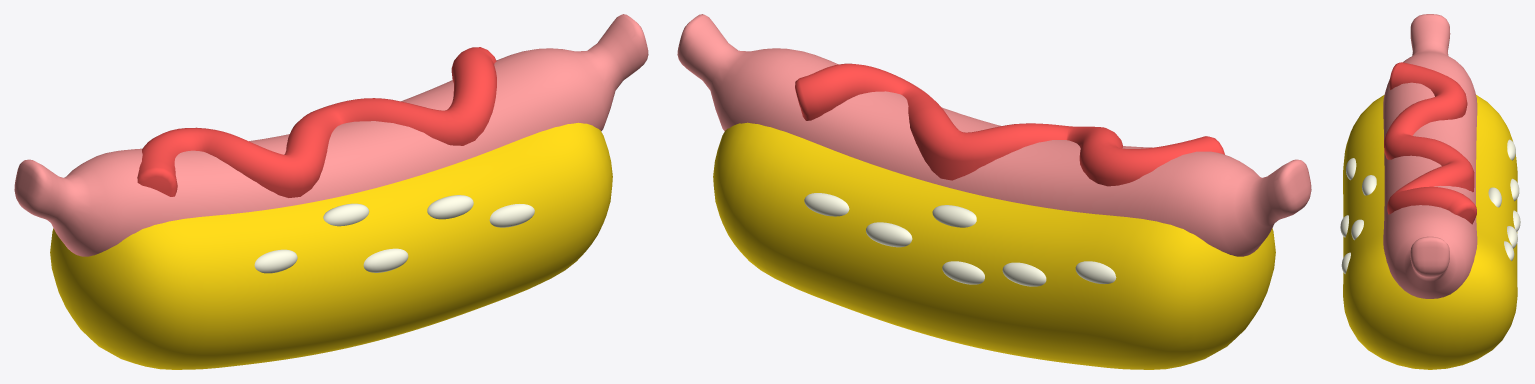
The model's file is Store_12_Big_Hot_Dog_1.glb.
3 views of the same model, side by side, from view 1: azimuth 30°, elevation 25°; view 2: azimuth 150°, elevation 25°; view 3: azimuth 270°, elevation 25° (orthographic). The views are drawn at different scales.
Visible parts, largest first — view 1: Store_12_Big_Hot_Dog_1; view 2: Store_12_Big_Hot_Dog_1; view 3: Store_12_Big_Hot_Dog_1.
Boxes of the visible parts, x1,y1,x2,y2 form: Store_12_Big_Hot_Dog_1: (14,14,648,369); Store_12_Big_Hot_Dog_1: (677,14,1311,369); Store_12_Big_Hot_Dog_1: (1340,14,1520,369).
Bounding box in the file's own units: 9.8 × 3.68 × 3.22.
1 material, 1 textured.
